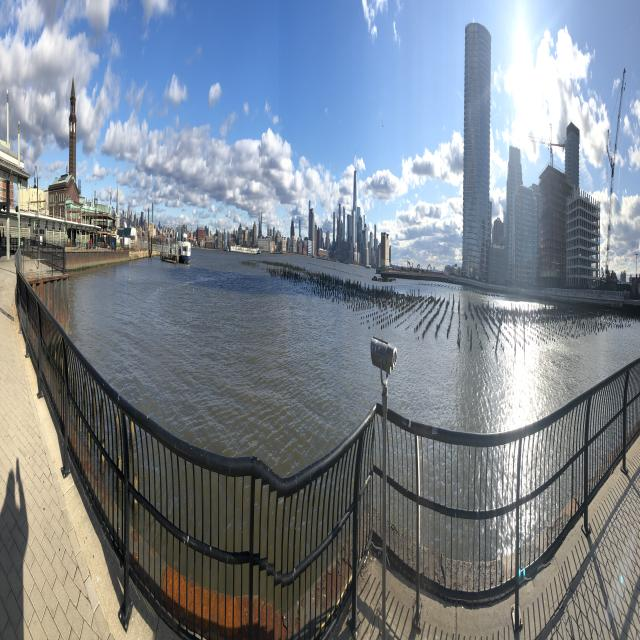WTC: (353, 145, 357, 236)
